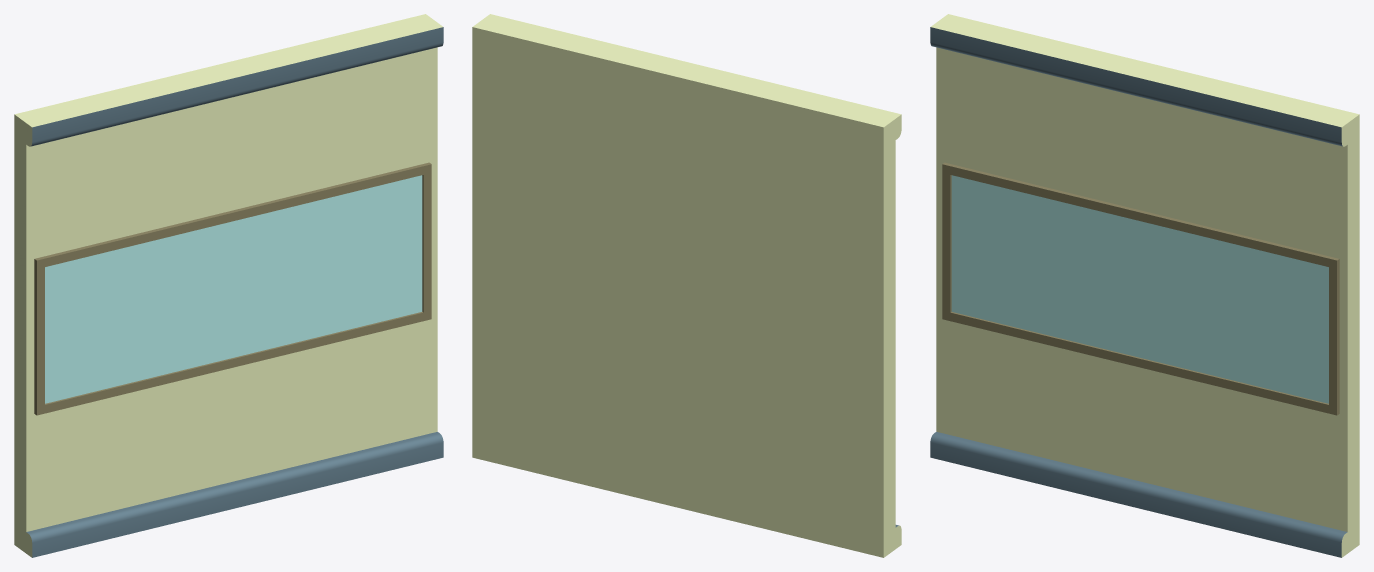
File: Modular_01_Wall_2m_Alt.fbx
3 renders of one model, left to right at view 1: azimuth 30°, elevation 25°; view 2: azimuth 150°, elevation 25°; view 3: azimuth 330°, elevation 25°, orthographic.
Parts seen in each view (by area): view 1: Modular_01_Wall_2m_Alt; view 2: Modular_01_Wall_2m_Alt; view 3: Modular_01_Wall_2m_Alt.
Part boxes in pixels (x1,y1,x2,y2): Modular_01_Wall_2m_Alt: [14, 14, 443, 557]; Modular_01_Wall_2m_Alt: [472, 14, 901, 557]; Modular_01_Wall_2m_Alt: [930, 14, 1359, 557].
Bounding box in the file's own units: 200 × 200 × 15.
